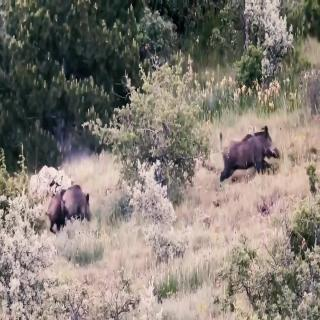Pig: (40, 167, 94, 245)
